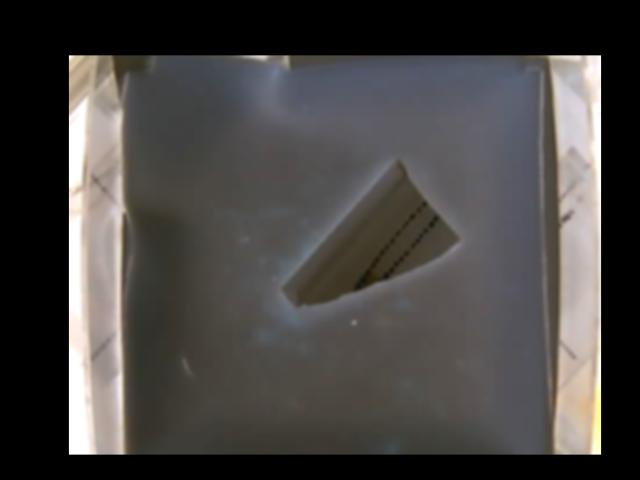China: (281, 158, 460, 311)
